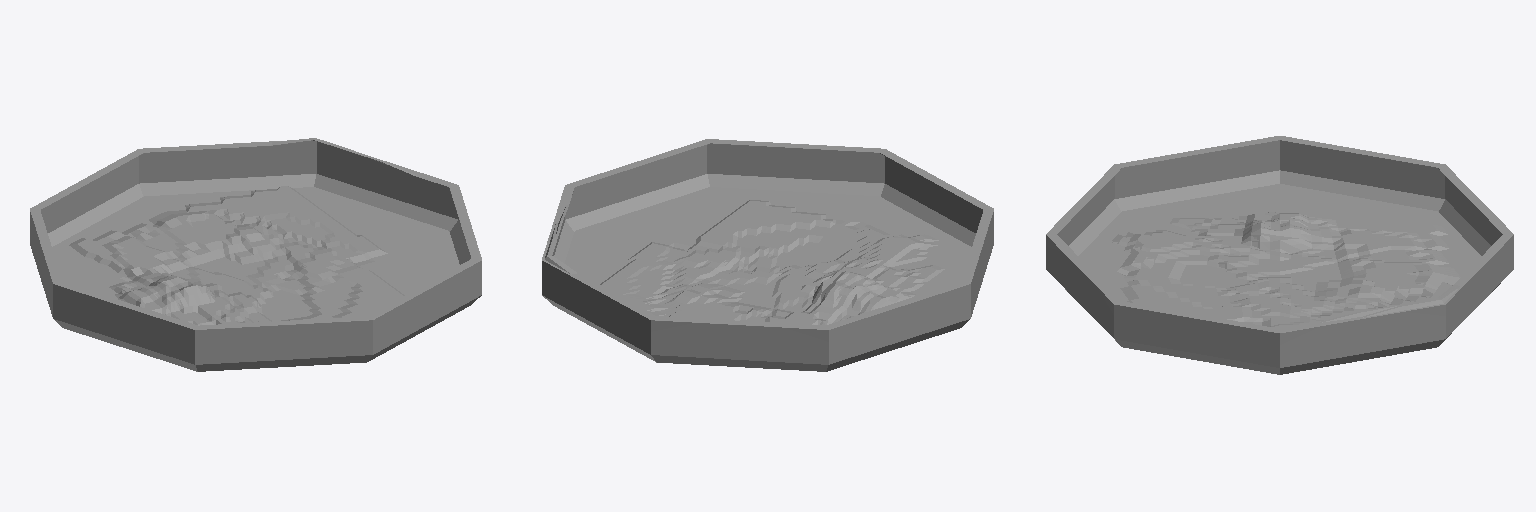
File: arena9.obj
The picture shows the model from 3 angles: view 1: azimuth 30°, elevation 25°; view 2: azimuth 150°, elevation 25°; view 3: azimuth 270°, elevation 25°; orthographic projection.
Visible parts, largest first — view 1: Mesh; view 2: Mesh; view 3: Mesh.
Boxes of the visible parts, x1=… form: Mesh: x1=30, y1=138, x2=481, y2=371; Mesh: x1=542, y1=139, x2=993, y2=371; Mesh: x1=1046, y1=136, x2=1513, y2=374.
Bounding box in the file's own units: 6.6 × 0.772 × 6.6.